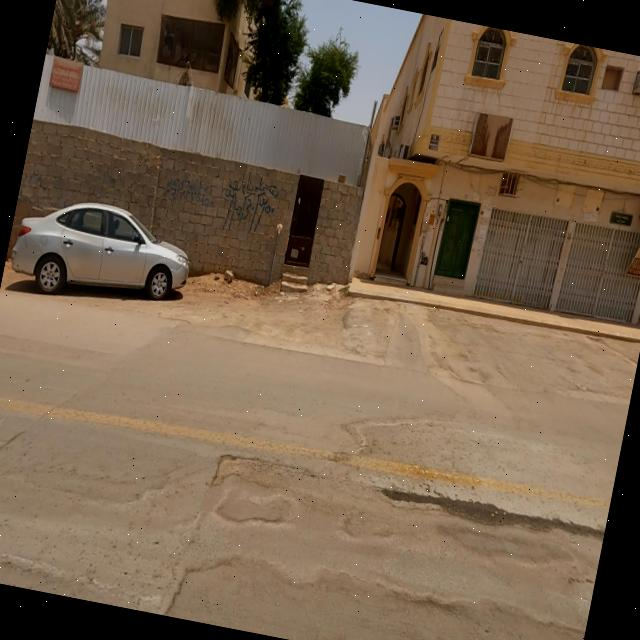Graffiti: (220, 171, 282, 240), (163, 172, 219, 215)
